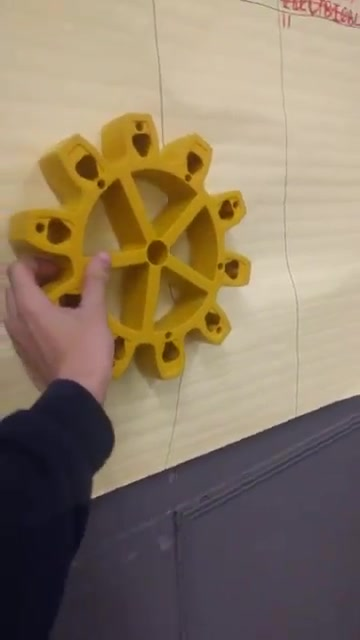gear: (1, 121, 254, 388)
